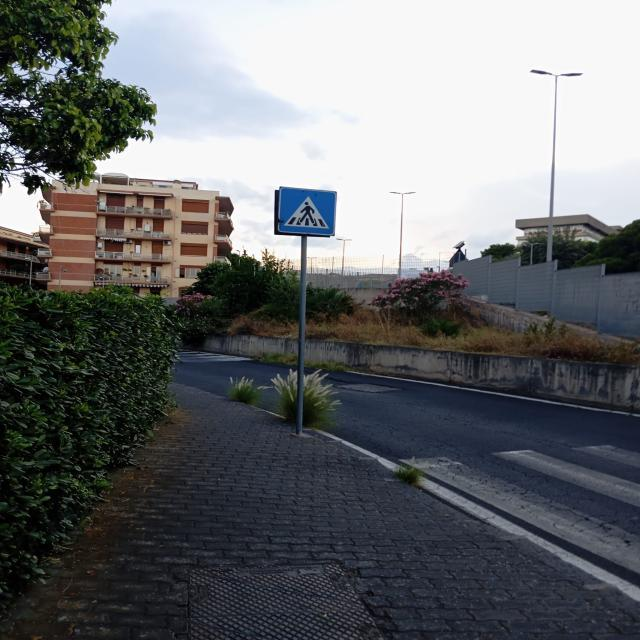info_crosswalk: (278, 186, 338, 236)
